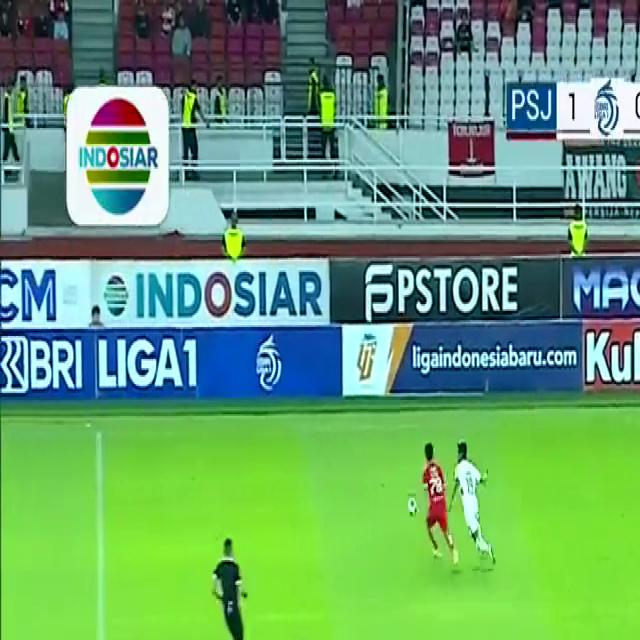ball: (406, 493, 417, 522)
referee: (199, 530, 263, 640)
soccer-player: (448, 436, 504, 574), (423, 438, 459, 570)
